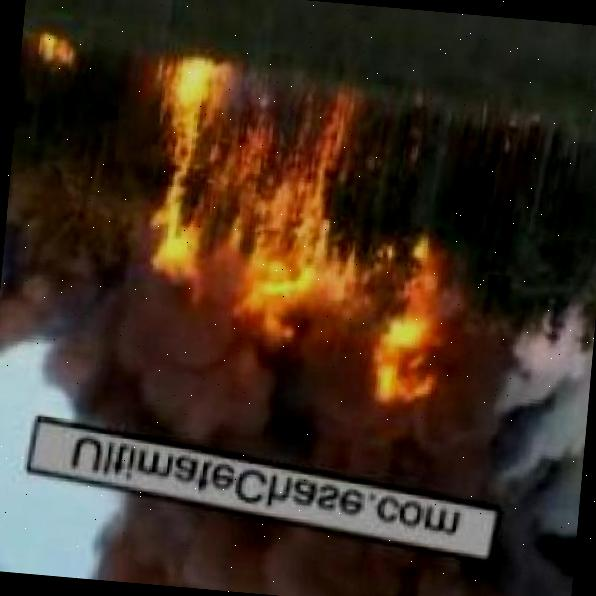fire: (133, 56, 470, 396), (36, 20, 84, 87)
smoke: (429, 279, 596, 500)
